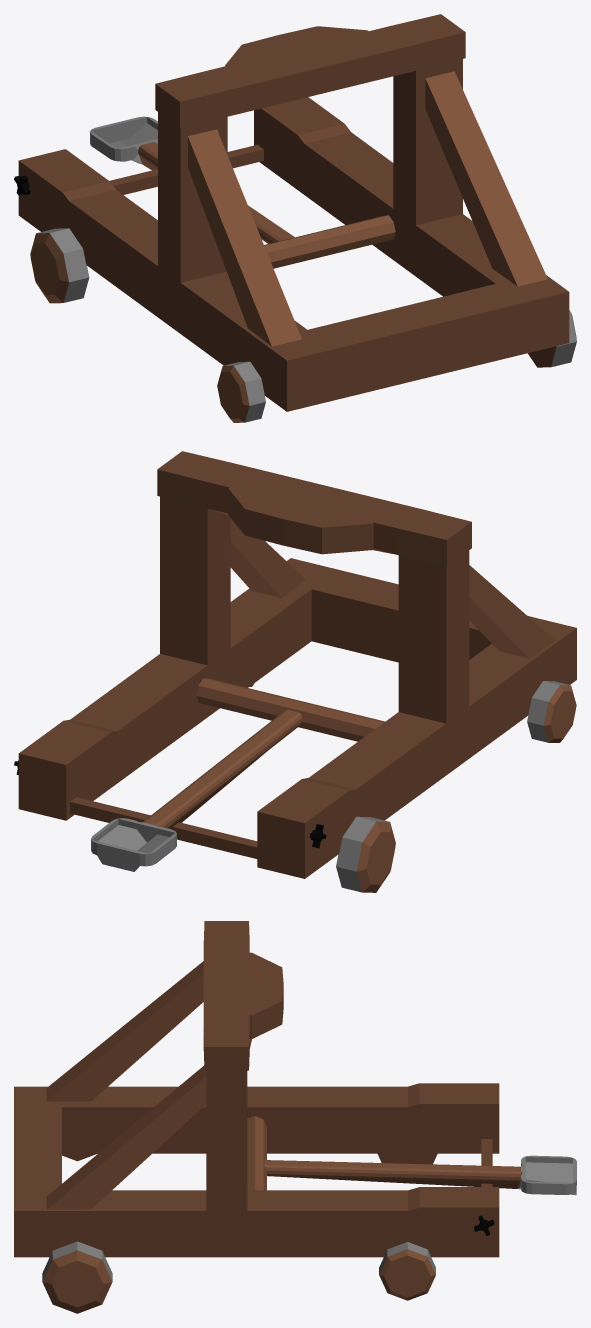
File: catapulfinaly .fbx
The picture shows the model from 3 angles, top to bottom: view 1: azimuth 30°, elevation 25°; view 2: azimuth 150°, elevation 25°; view 3: azimuth 270°, elevation 25°; orthographic projection. The views are drawn at different scales.
Visible parts, largest first — view 1: Base, MainCannon, WheelBR, WheelFR, WheelBR.001; view 2: Base, MainCannon, WheelBR, WheelFR; view 3: Base, MainCannon, WheelBR.001, WheelFR.001, WheelBR.
Part boxes in pixels (x1=…): Base: x1=18, y1=14, x2=569, y2=411; MainCannon: x1=89, y1=116, x2=395, y2=268; WheelBR: x1=30, y1=228, x2=89, y2=303; WheelFR: x1=217, y1=361, x2=265, y2=422; WheelBR.001: x1=528, y1=310, x2=576, y2=367; Base: x1=18, y1=451, x2=576, y2=878; MainCannon: x1=91, y1=678, x2=384, y2=871; WheelBR: x1=336, y1=816, x2=395, y2=892; WheelFR: x1=527, y1=681, x2=576, y2=742; Base: x1=14, y1=921, x2=499, y2=1257; MainCannon: x1=247, y1=1116, x2=576, y2=1195; WheelBR.001: x1=42, y1=1241, x2=112, y2=1313; WheelFR.001: x1=379, y1=1242, x2=435, y2=1300; WheelBR: x1=377, y1=1153, x2=437, y2=1164.
Bounding box in the file's own units: 301 × 245 × 486.
